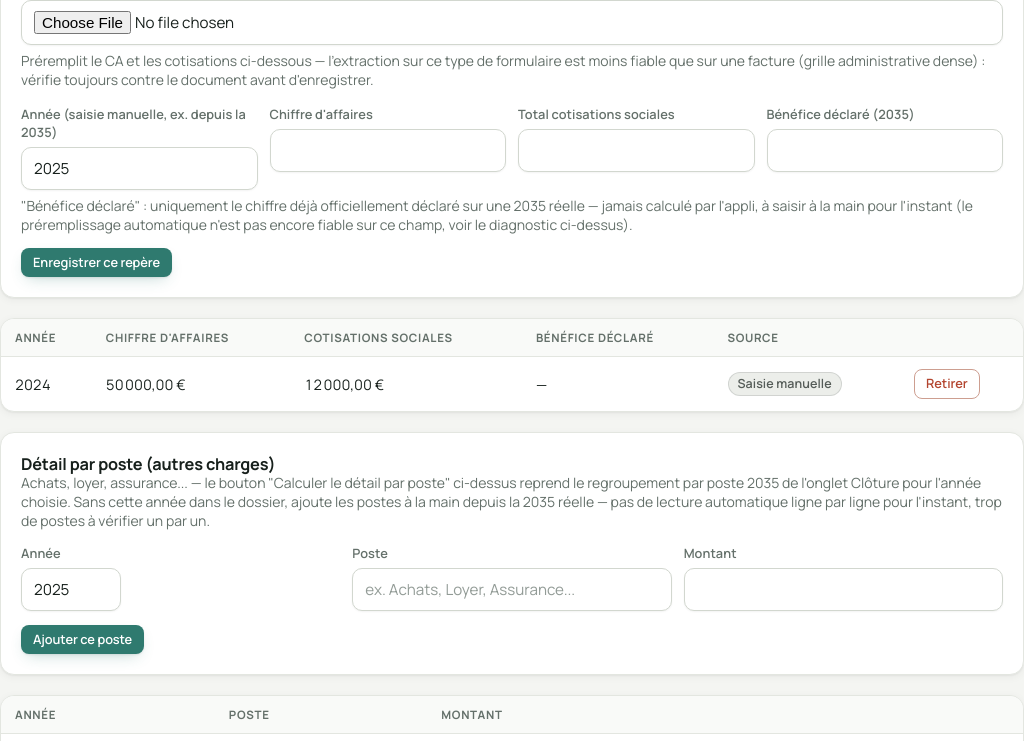
EstimationTab — un retrait refusé se dit › un repère annuel dont le retrait est refusé le dit, et reste
This screenshot has width=1024, height=741.
(page scrolled)
Click the button "Retirer" in the row of "50 000,00 €". click: [947, 384]
box: [914,369,980,399]
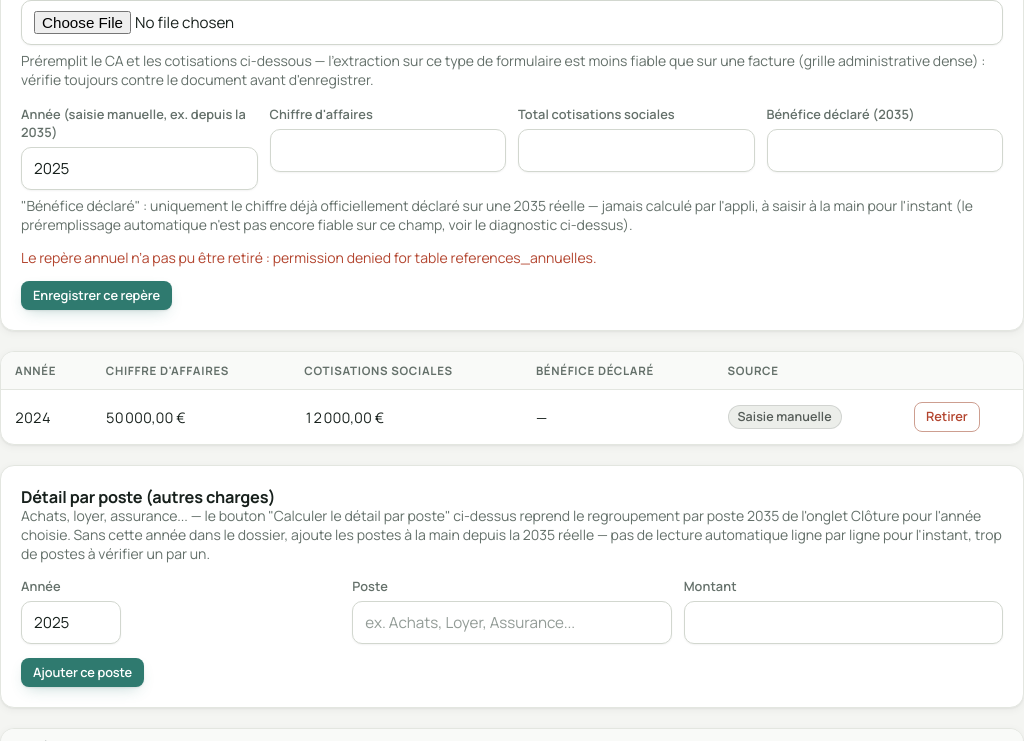
Result: the text "Le repère annuel n’a pas pu être retiré : permission denied for table references_annuelles." is shown at [21,248,596,267]
